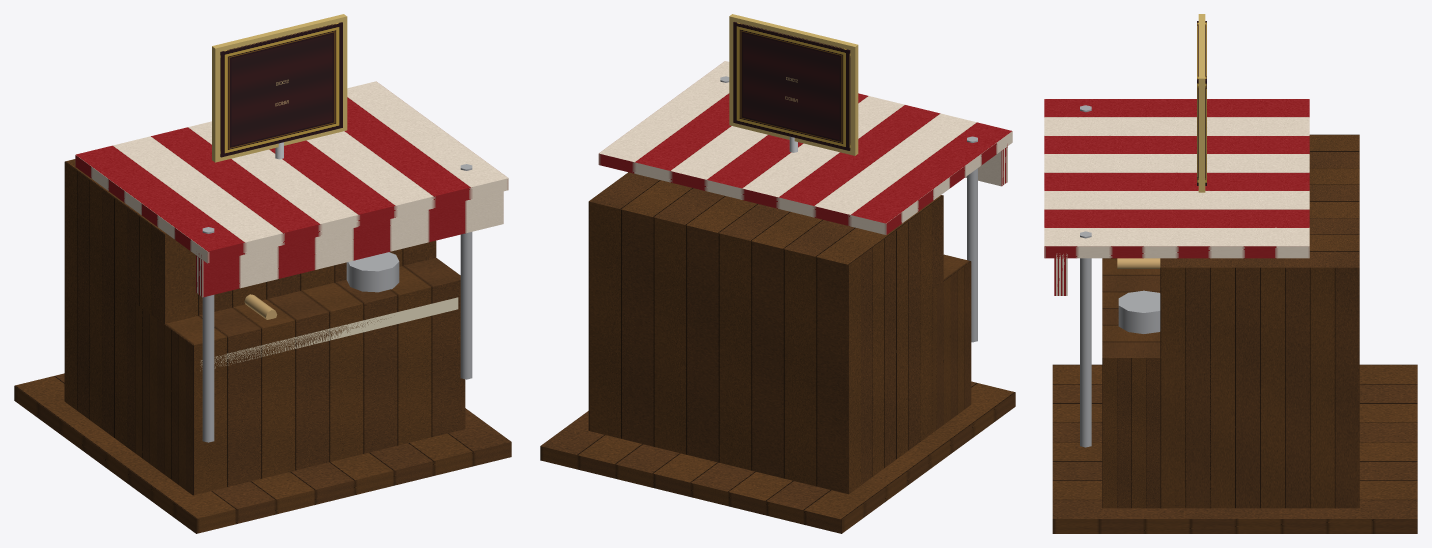
File: vendor_corndog.glb
3 views of the same model, side by side, from view 1: azimuth 30°, elevation 25°; view 2: azimuth 150°, elevation 25°; view 3: azimuth 270°, elevation 25° (orthographic). The views are drawn at different scales.
Parts seen in each view (by area): view 1: base, sign; view 2: base, sign; view 3: base, sign, prop.
Boxes of the visible parts, left/top/right/bottom form: base: left=14, top=81, right=511, bottom=533; sign: left=212, top=14, right=347, bottom=162; base: left=540, top=61, right=1015, bottom=533; sign: left=729, top=14, right=858, bottom=155; base: left=1044, top=99, right=1417, bottom=533; sign: left=1197, top=14, right=1206, bottom=192; prop: left=1117, top=258, right=1160, bottom=268.
Size of the model in its own units: 2.2 by 2.73 by 2.25.
9 materials, 3 textured.
